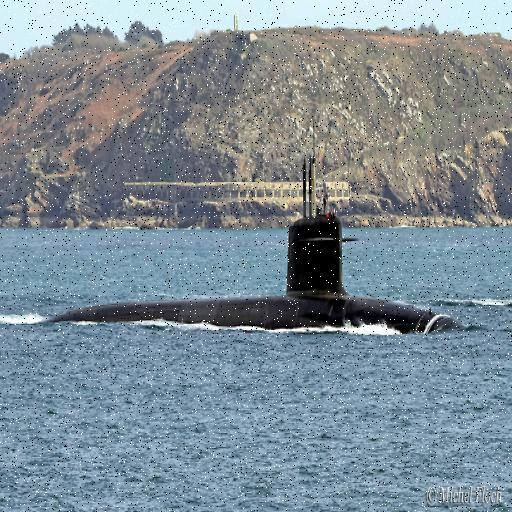submarine: (35, 151, 474, 329)
